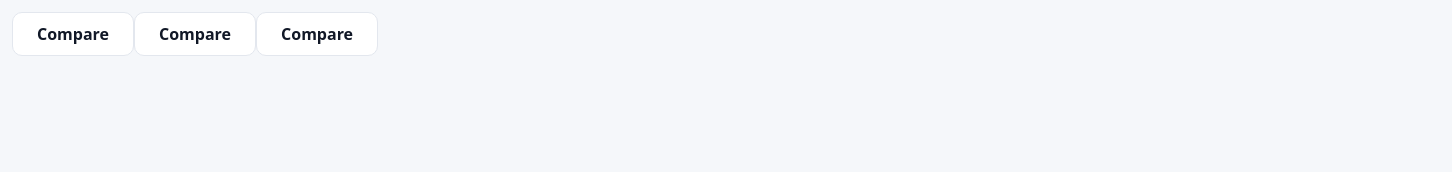
Scenario: the button and the tray › toggles a product, says why it cannot add another kind, and the tray opens the comparison from two
Later steps or results of the test are not shown.
What coordinates should you click on to do the following:
click the 1st button "Compare"
I would click on:
 (73, 34)
Its box is [12,12,134,56].
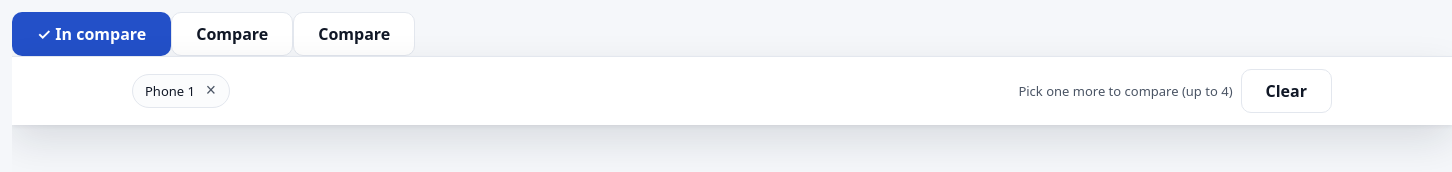
Expected: the text "Pick one more to compare (up to 4)" is shown, [1018,81,1232,101]
What coordinates should you click on to do the following:
click the 1st button "Compare"
I would click on:
 (232, 34)
Its box is [171,12,293,56].
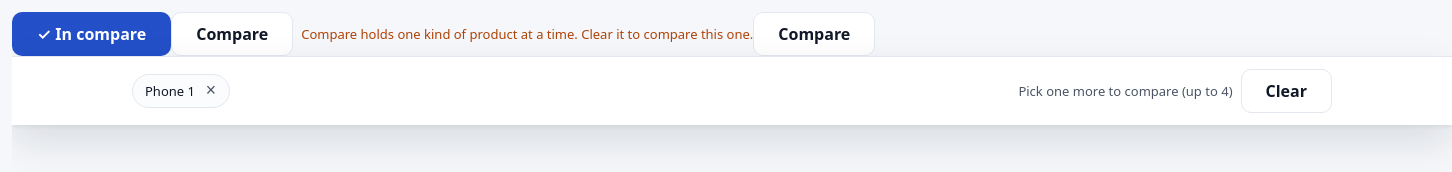
Expected: the message shows "one kind of product", [301,25,753,43]
